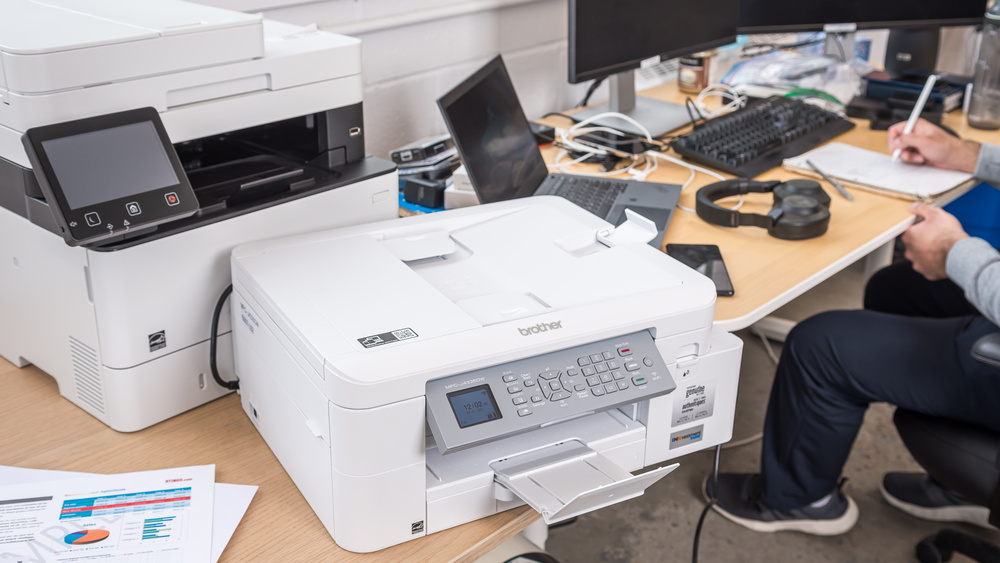printer: (223, 192, 748, 555)
